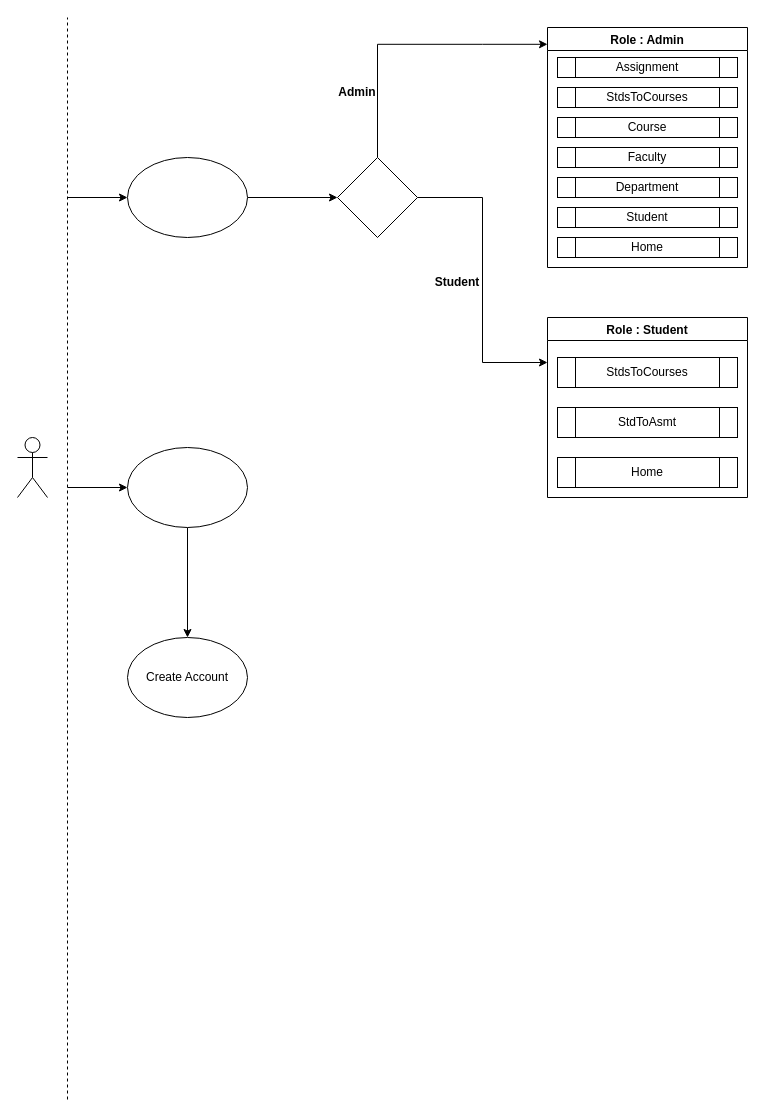
This 765x1118 diagram has some shape labels left out. Each missing label, with the centre of its shape:
Actor: the point at 32,467
Registration: the point at 187,487
Sign-In: the point at 187,197
